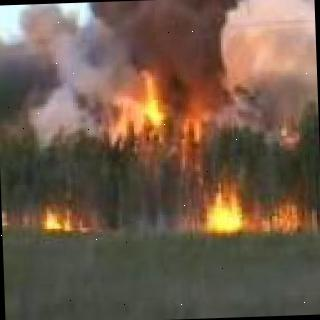fire: (118, 54, 166, 128), (203, 184, 249, 236), (40, 199, 76, 227)
